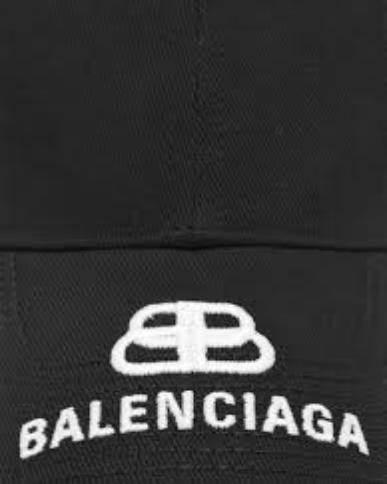BALENCIAGA: (17, 388, 361, 463), (113, 300, 281, 379)
